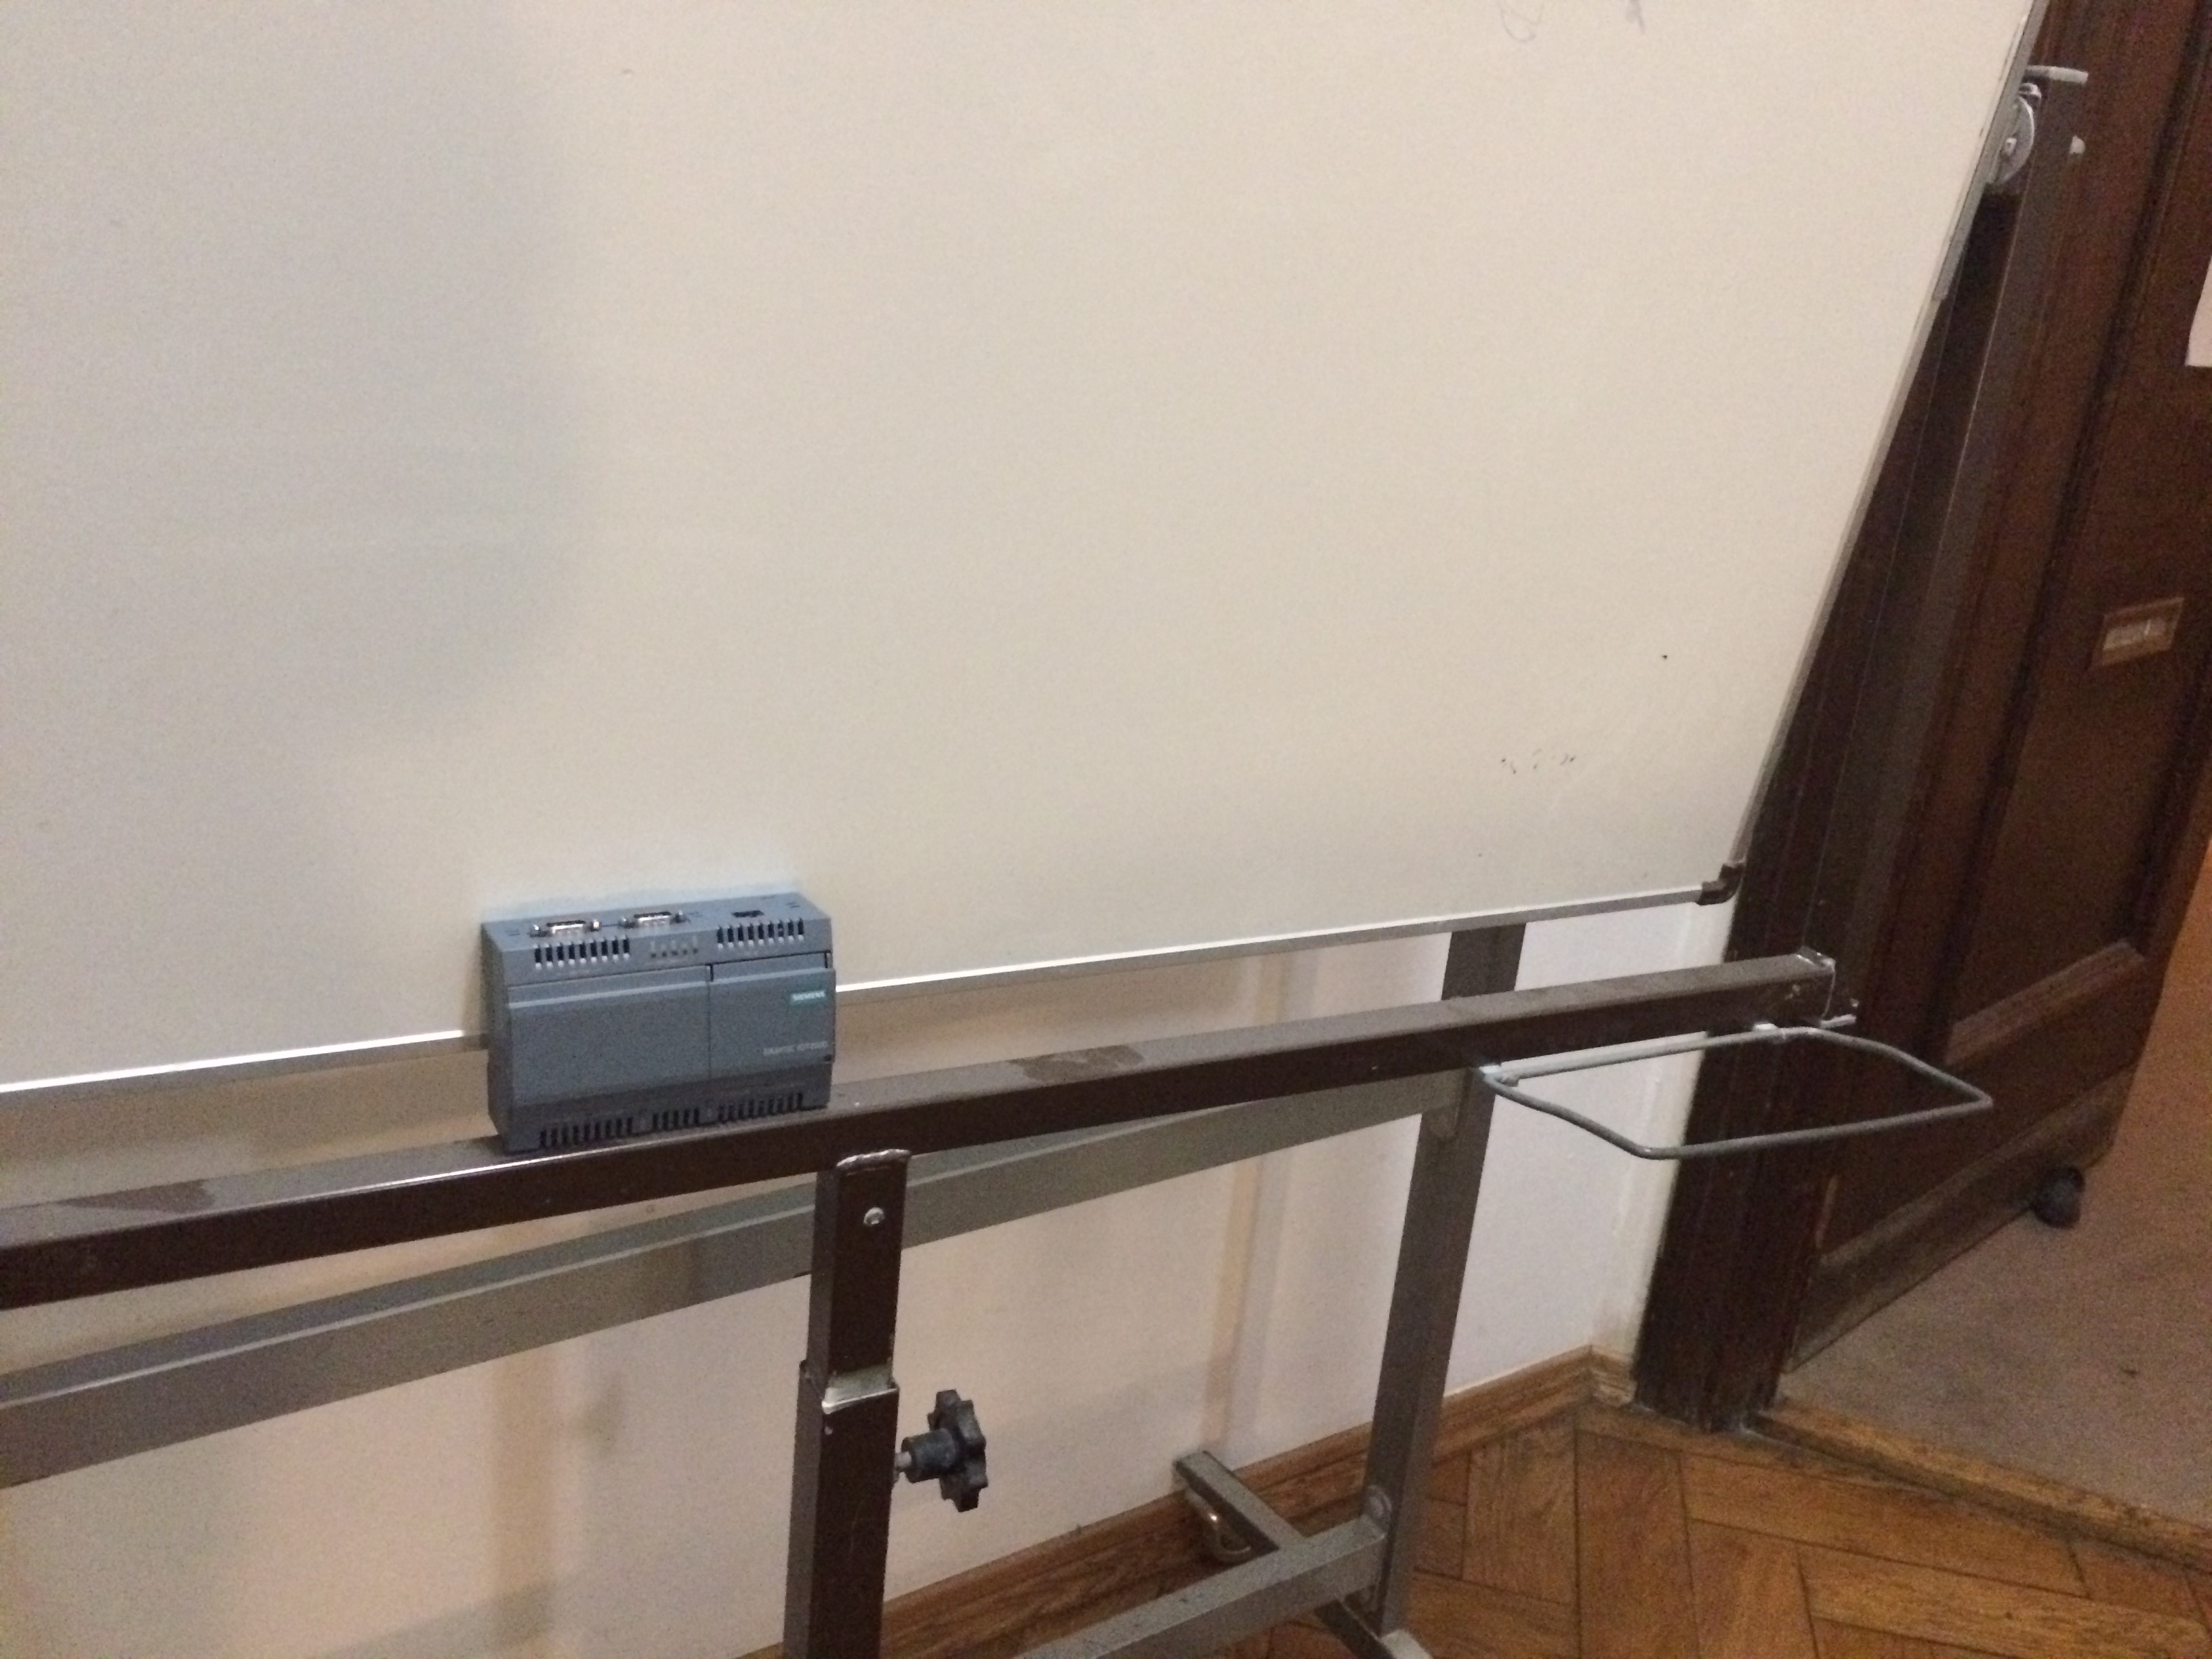iot2000: (475, 887, 841, 1161)
